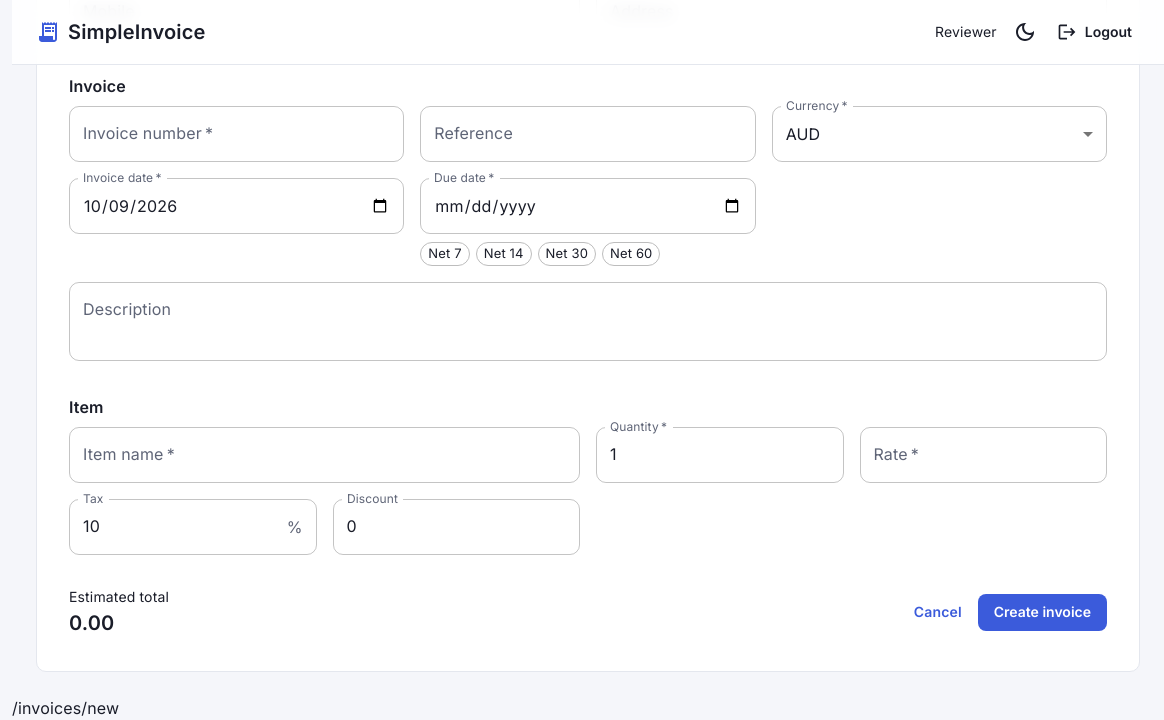
Test case: Create invoice › shows required field errors
This screenshot has width=1164, height=720.
(page scrolled)
Click the button "Create invoice" at (1042, 613), box 978,594 -> 1107,631
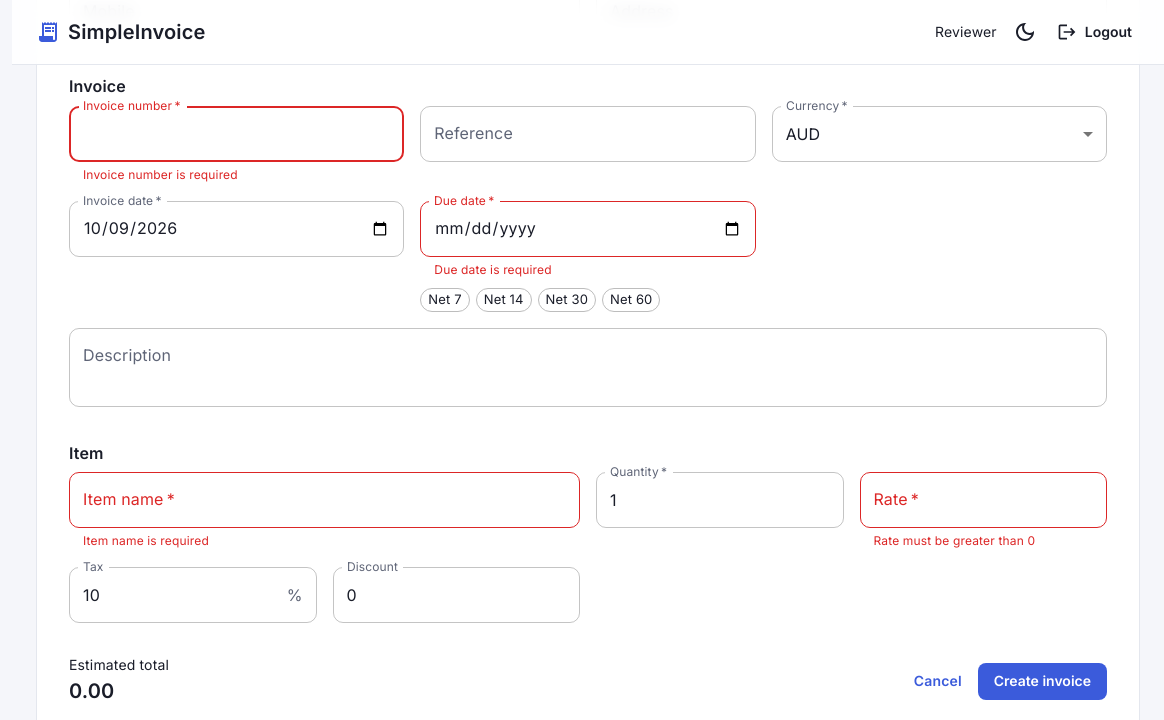
Check: the text "Invoice number is required" is shown, box 83,167 -> 238,182
Check: the text "Due date is required" is shown, box 434,262 -> 552,277
Check: the text "Item name is required" is shown, box 83,533 -> 209,548
